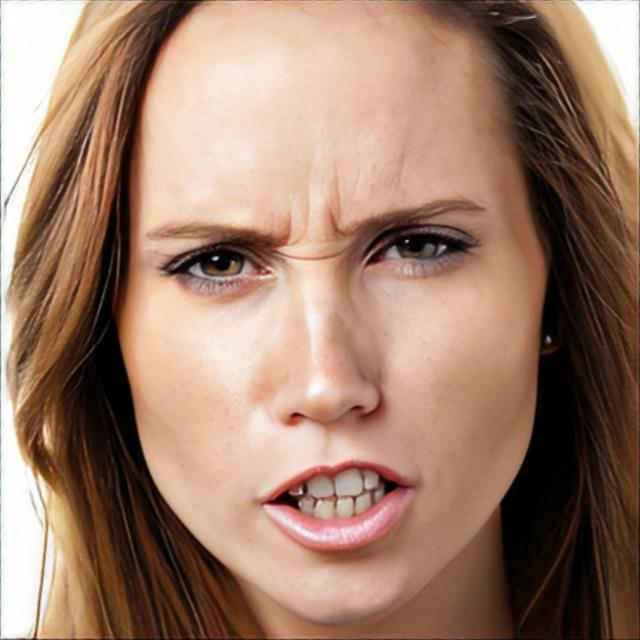anger: (115, 30, 548, 627)
